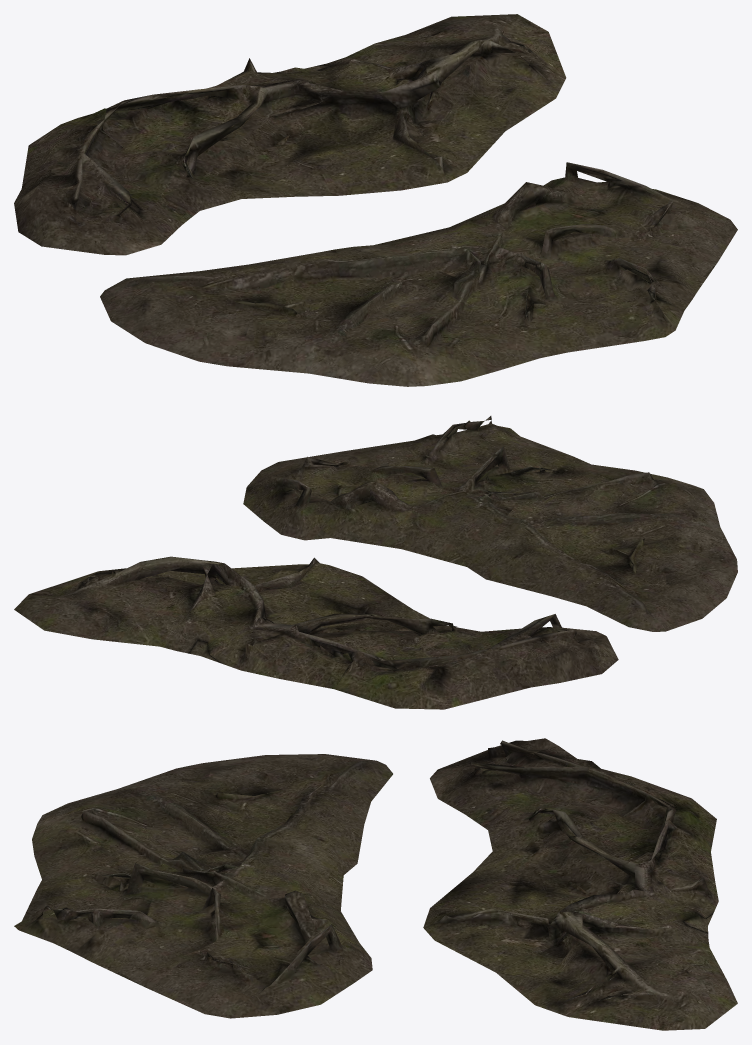
The model's file is pine_roots.glb.
3 renders of one model, top to bottom at view 1: azimuth 30°, elevation 25°; view 2: azimuth 150°, elevation 25°; view 3: azimuth 270°, elevation 25°, orthographic. The views are drawn at different scales.
Visible parts, largest first — view 1: pine_roots_b, pine_roots_a; view 2: pine_roots_b, pine_roots_a; view 3: pine_roots_b, pine_roots_a.
Part boxes in pixels (x1,y1,x2,y2): pine_roots_b: (100,162,737,386); pine_roots_a: (14,14,566,255); pine_roots_b: (243,416,737,631); pine_roots_a: (14,556,618,709); pine_roots_b: (14,754,392,1018); pine_roots_a: (423,738,737,1030).
Size of the model in its own units: 1.76 by 0.1446 by 1.89.
2 materials, 2 textured.
